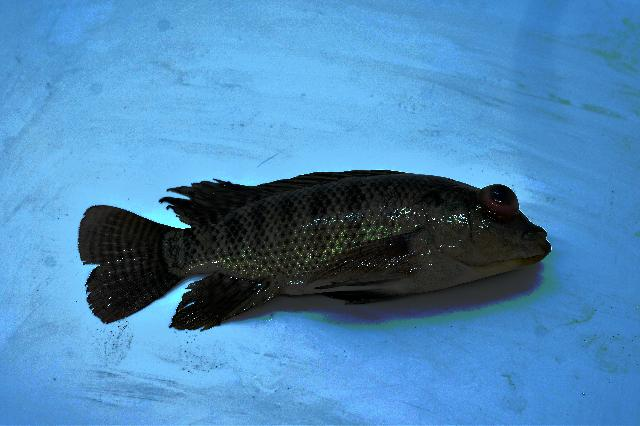Streptococcus: (79, 171, 550, 330)
